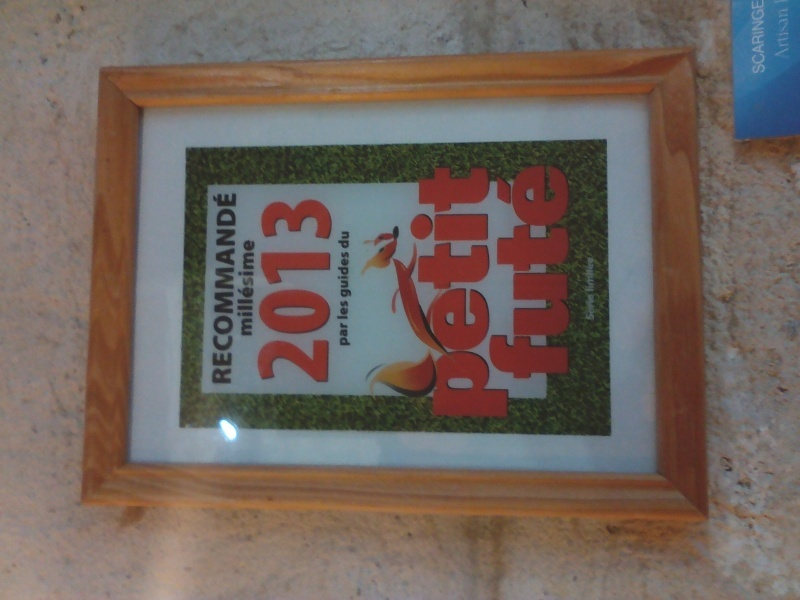text: (497, 162, 513, 421), (417, 162, 432, 421), (433, 162, 448, 421), (449, 162, 464, 421), (465, 162, 480, 421), (481, 162, 496, 421), (497, 161, 512, 381), (513, 161, 528, 381), (529, 161, 544, 381), (545, 161, 560, 381), (561, 161, 576, 381), (404, 162, 416, 421), (273, 196, 288, 387), (289, 196, 304, 387), (305, 196, 320, 387), (225, 193, 239, 385), (258, 196, 272, 387), (321, 196, 333, 387), (213, 193, 224, 385), (241, 236, 256, 339), (753, 1, 766, 75), (337, 250, 352, 299), (493, 161, 496, 381), (772, 6, 784, 61), (339, 322, 352, 349), (237, 236, 240, 339), (338, 299, 352, 320), (785, 6, 790, 61), (339, 229, 352, 249), (585, 256, 592, 292), (749, 1, 752, 75), (584, 294, 592, 321), (593, 294, 596, 321), (353, 250, 354, 299), (593, 256, 594, 292)
